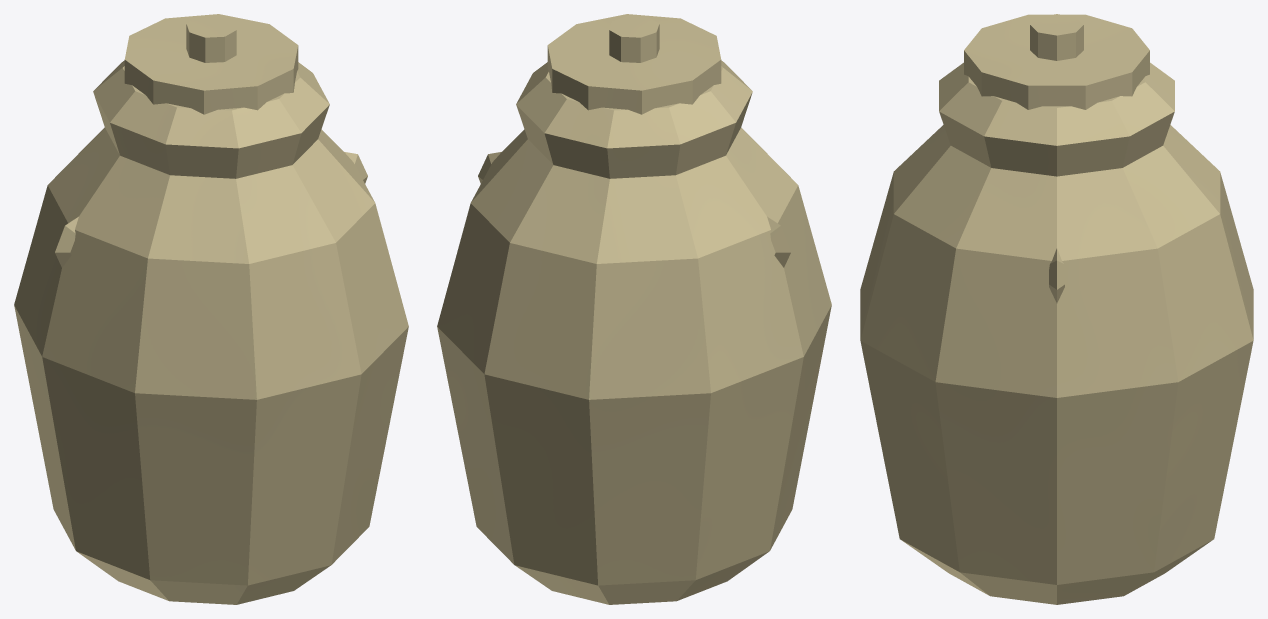
File: WarrensC_WVC053_OssuaryUrn_Mars_SM.fbx
The picture shows the model from 3 angles, left to right: view 1: azimuth 30°, elevation 25°; view 2: azimuth 150°, elevation 25°; view 3: azimuth 270°, elevation 25°; orthographic projection.
Visible parts, largest first — view 1: WarrensC_WVC053_OssuaryUrn_Mars_SM.001; view 2: WarrensC_WVC053_OssuaryUrn_Mars_SM.001; view 3: WarrensC_WVC053_OssuaryUrn_Mars_SM.001.
Part boxes in pixels (x1,y1,x2,y2): WarrensC_WVC053_OssuaryUrn_Mars_SM.001: (14,14,408,604); WarrensC_WVC053_OssuaryUrn_Mars_SM.001: (437,14,831,604); WarrensC_WVC053_OssuaryUrn_Mars_SM.001: (860,14,1253,604).
Bounding box in the file's own units: 40 × 40 × 60.
